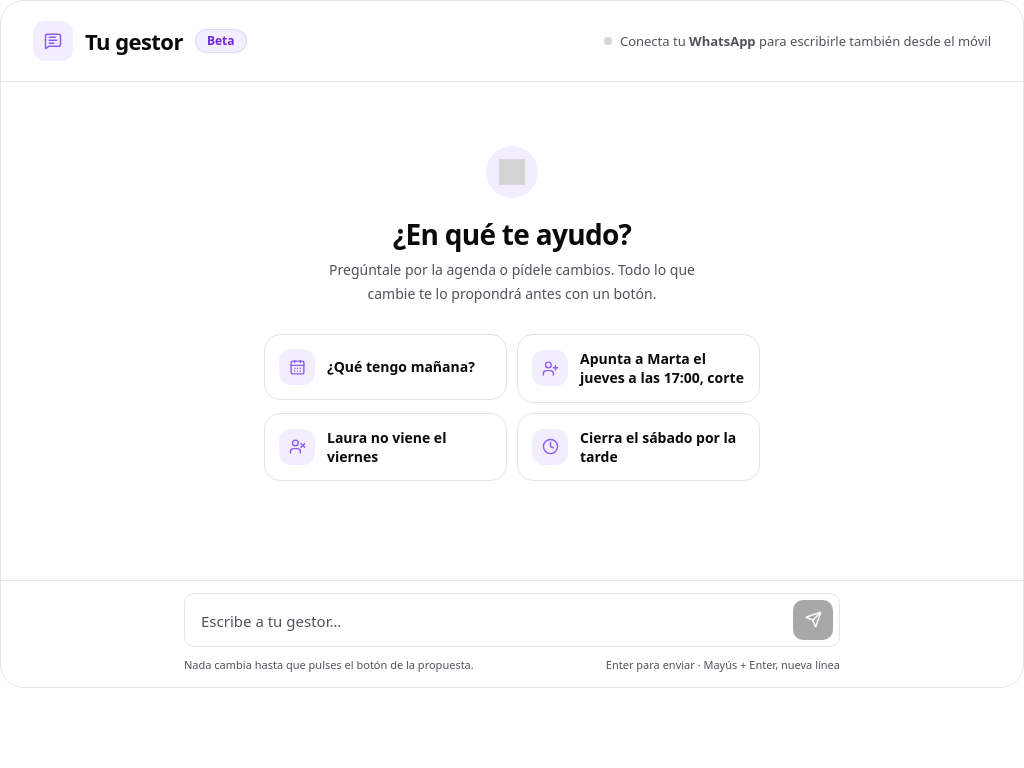
Test: GestorChat › sin conversación enseña el estado vacío; un ejemplo rellena el cuadro, y sin WhatsApp invita a conectarlo
Expected: the heading "¿En qué te ayudo?" is shown, [393,218,631,250]
Expected: the heading "Tu gestor" is shown, [85,24,183,58]
Click the button "Laura no viene el viernes".
click(386, 447)  # box [264,412,507,481]
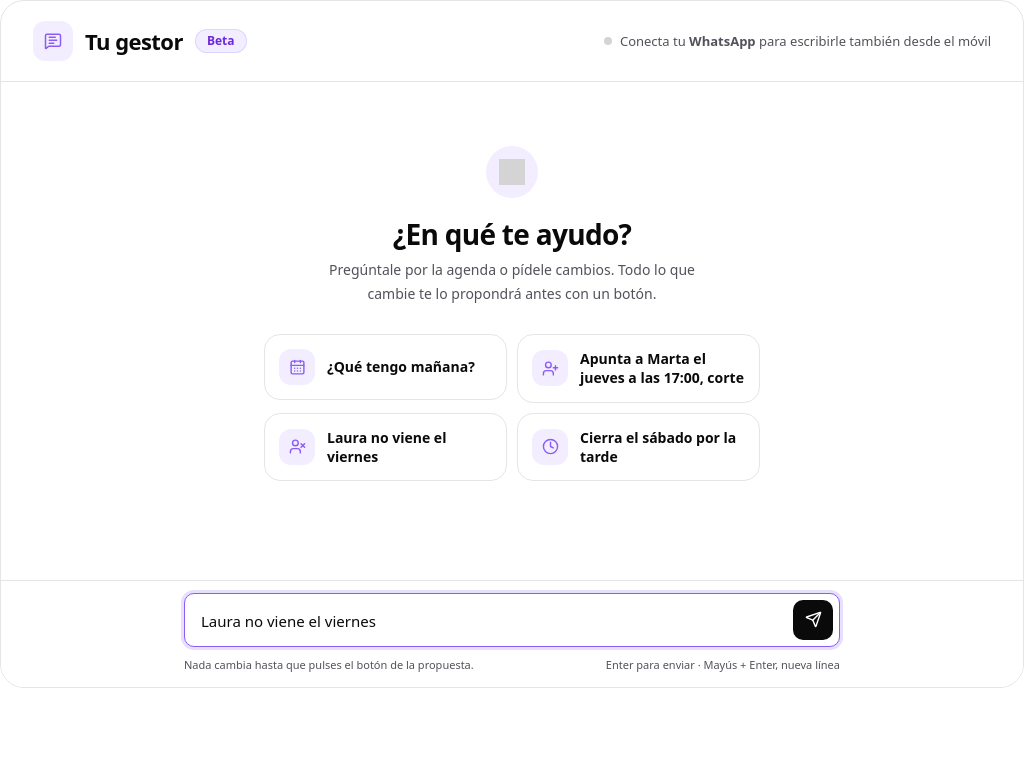
Expected: the text box named "Mensaje para tu gestor" holds "Laura no viene el viernes", [201,603,785,640]
